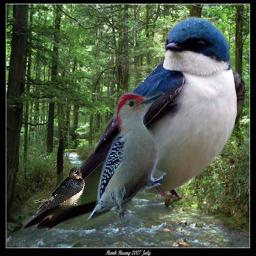Swallow: (21, 16, 246, 233), (32, 167, 85, 209)
Woodpecker: (86, 91, 166, 224)
